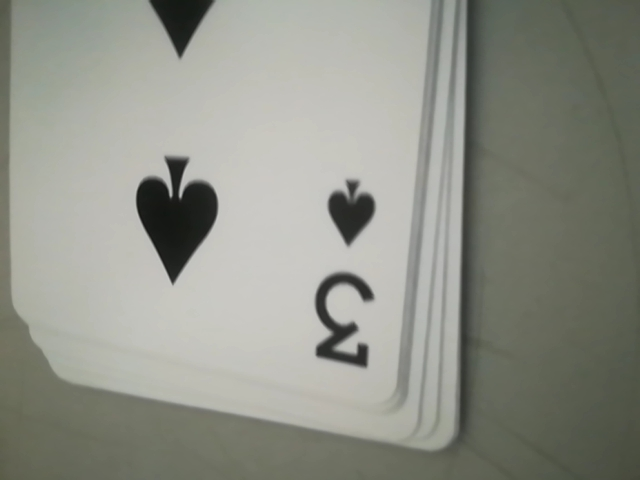ht 3: (311, 180, 388, 374)
